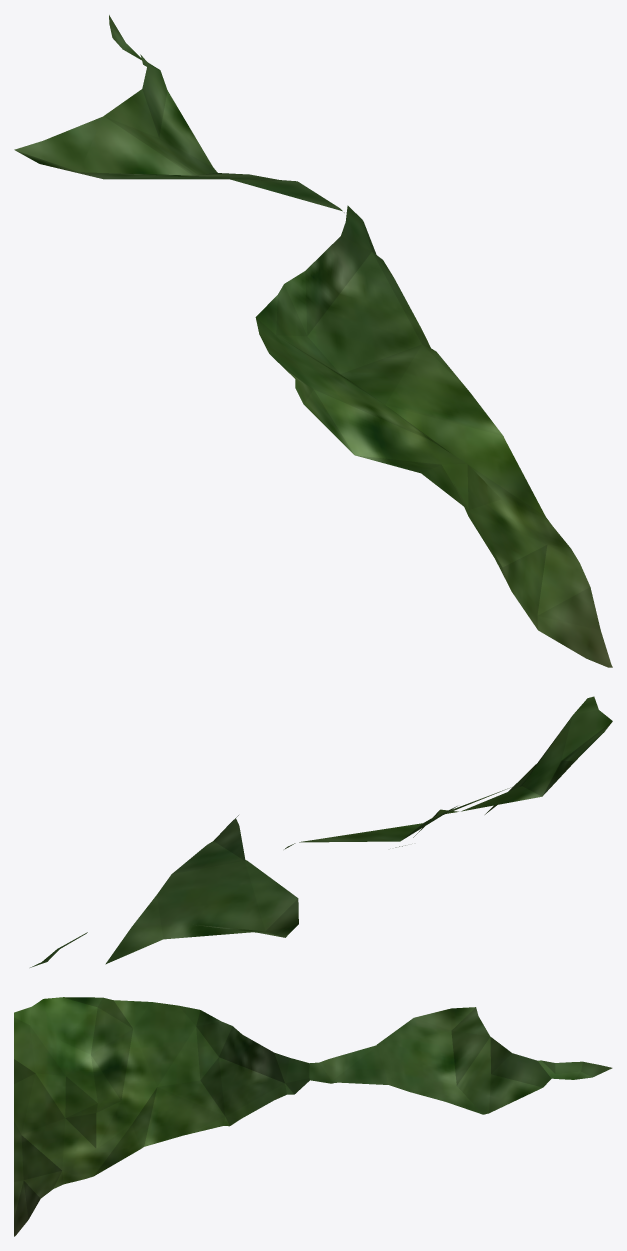
The picture shows the model from 3 angles, top to bottom: view 1: azimuth 30°, elevation 25°; view 2: azimuth 150°, elevation 25°; view 3: azimuth 270°, elevation 25°; orthographic projection. The views are drawn at different scales.
Bounding box in the file's own units: 0.2117 × 0.2351 × 0.7555.
1 material, 1 textured.
